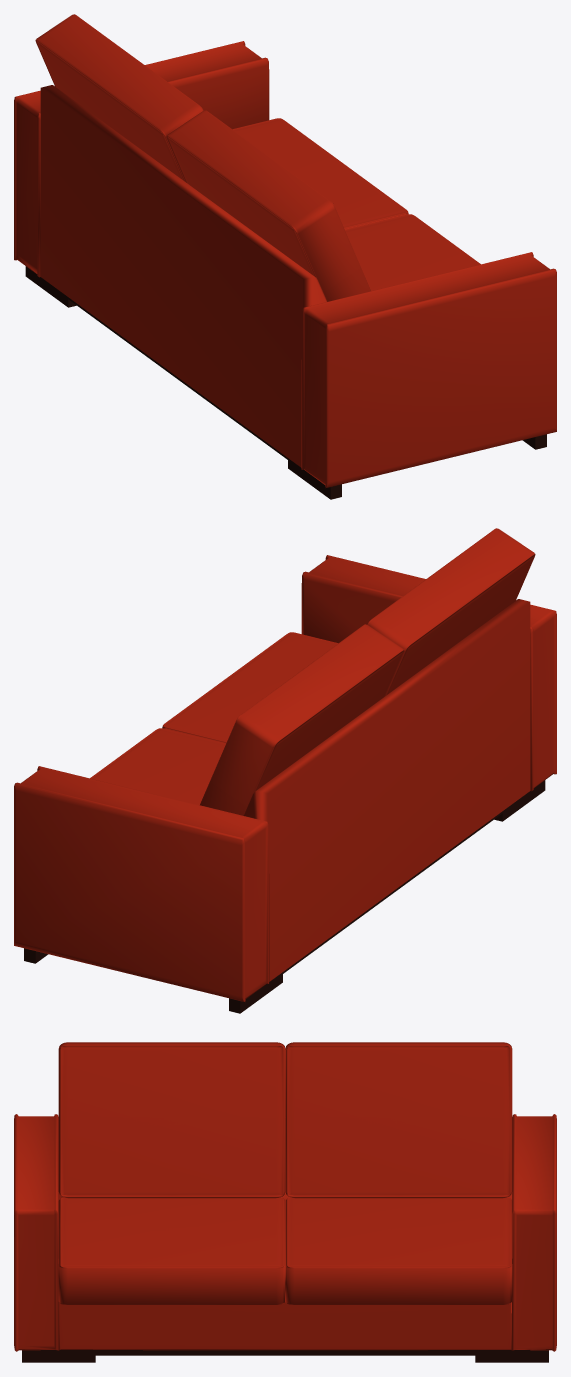
Rendered from chenilleCouch.fbx.
3 renders of one model, top to bottom at view 1: azimuth 30°, elevation 25°; view 2: azimuth 150°, elevation 25°; view 3: azimuth 270°, elevation 25°, orthographic. The views are drawn at different scales.
Parts seen in each view (by area): view 1: Sides, MainPart, BackPillows, SeatCushion, SupportFeet; view 2: Sides, MainPart, BackPillows, SeatCushion, SupportFeet; view 3: BackPillows, SeatCushion, Sides, MainPart, SupportFeet.
Part boxes in pixels (x1=…): Sides: x1=14, y1=41, x2=556, y2=487; MainPart: x1=40, y1=85, x2=326, y2=467; BackPillows: x1=35, y1=14, x2=370, y2=301; SeatCushion: x1=232, y1=118, x2=480, y2=290; SupportFeet: x1=25, y1=266, x2=546, y2=499; Sides: x1=14, y1=555, x2=556, y2=1001; MainPart: x1=244, y1=599, x2=530, y2=981; BackPillows: x1=200, y1=528, x2=535, y2=815; SeatCushion: x1=90, y1=632, x2=338, y2=804; SupportFeet: x1=24, y1=780, x2=545, y2=1013; BackPillows: x1=58, y1=1042, x2=512, y2=1198; SeatCushion: x1=58, y1=1197, x2=512, y2=1304; Sides: x1=14, y1=1114, x2=556, y2=1351; MainPart: x1=58, y1=1192, x2=512, y2=1350; SupportFeet: x1=22, y1=1350, x2=548, y2=1362.
Bounding box in the file's own units: 93.62 × 99.31 × 206.
